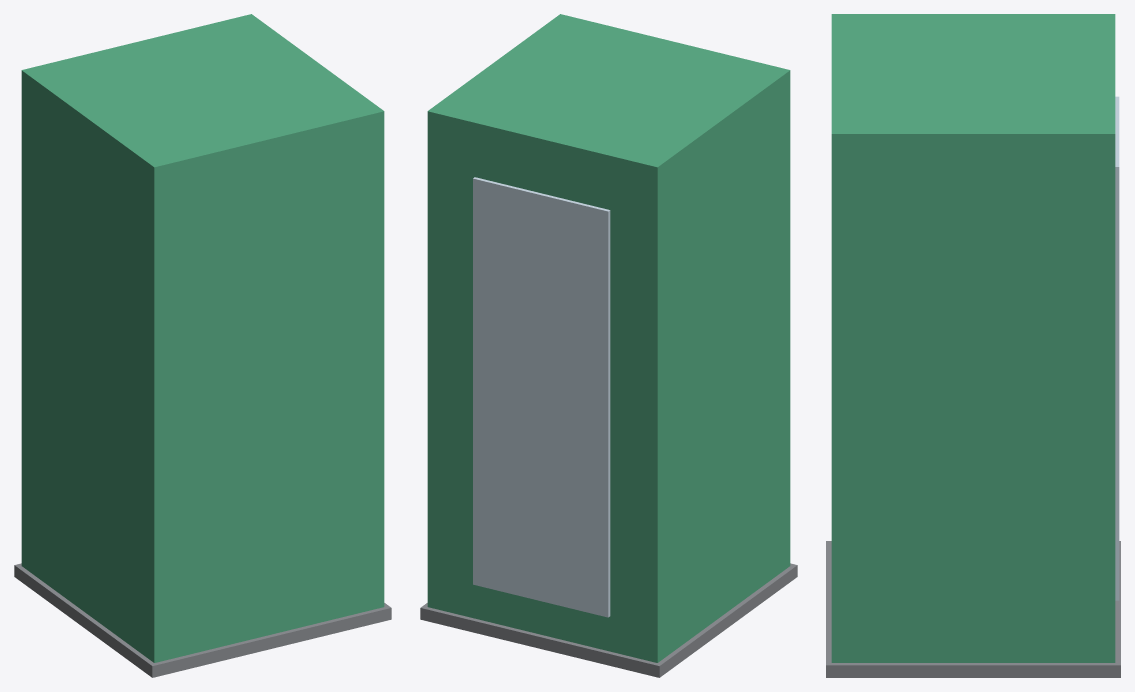
File: phone_booth-PRIM-003.glb
3 views of the same model, side by side, from view 1: azimuth 30°, elevation 25°; view 2: azimuth 150°, elevation 25°; view 3: azimuth 270°, elevation 25° (orthographic). The views are drawn at different scales.
Parts seen in each view (by area): view 1: p0, p2; view 2: p0, p1, p2; view 3: p0, p2, p1.
Part boxes in pixels (x1,y1,x2,y2): p0: (21,14,384,662); p2: (14,563,391,677); p0: (427,14,790,662); p1: (473,177,610,617); p2: (420,563,797,677); p0: (831,14,1115,662); p2: (826,541,1120,677); p1: (1115,96,1119,600).
Bounding box in the file's own units: 1.06 × 2.15 × 1.06.
